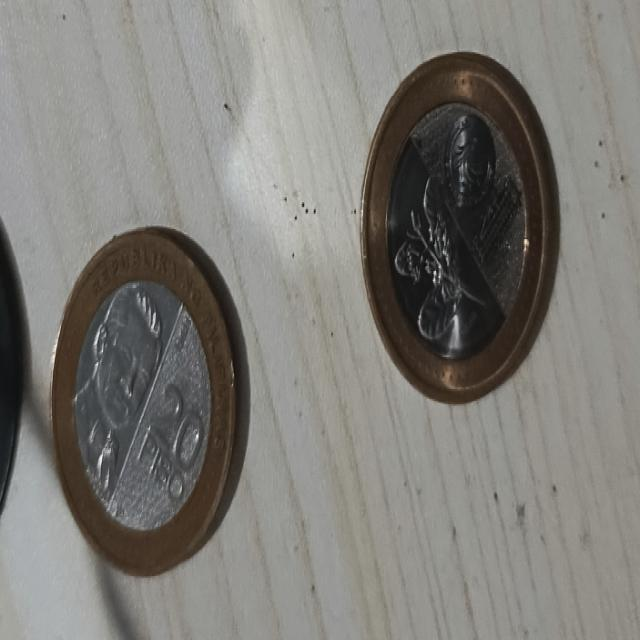20_peso: (362, 56, 557, 399), (53, 229, 235, 571)
